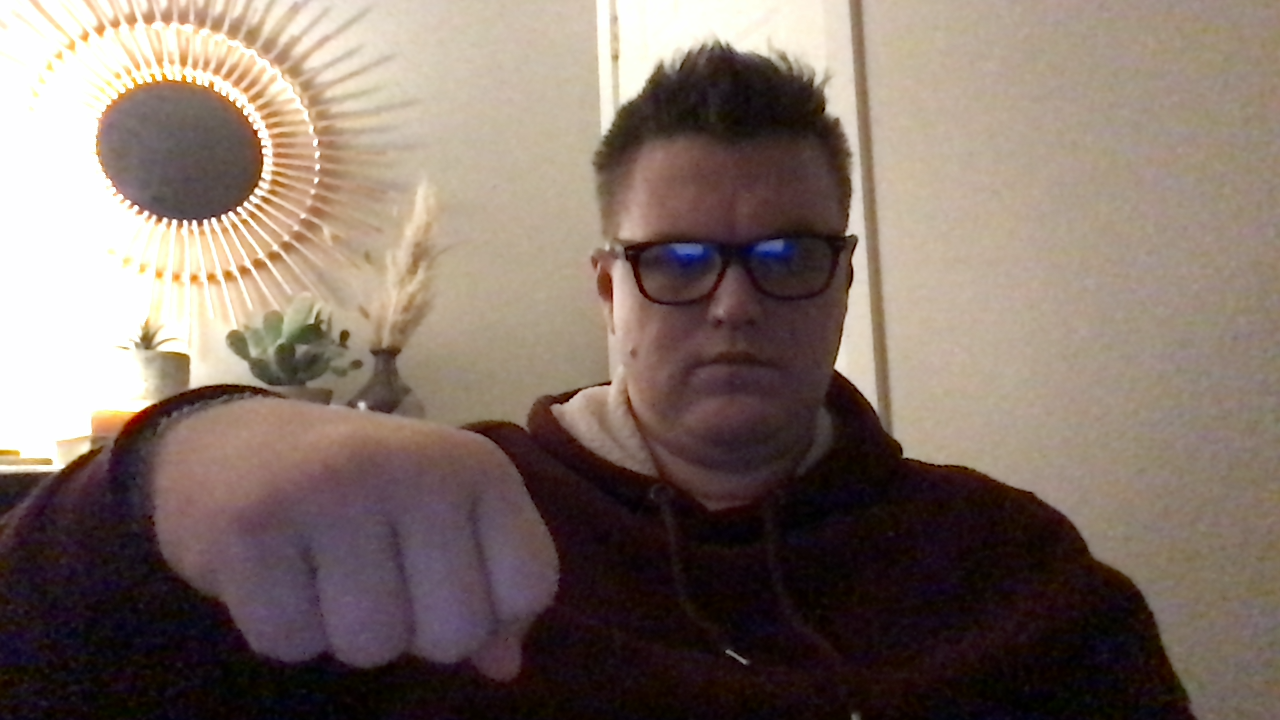yes: (120, 387, 562, 681)
